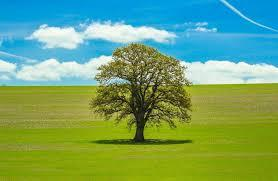tree: (92, 43, 192, 144)
